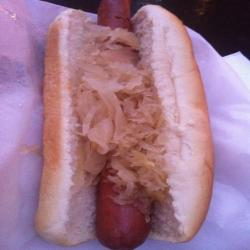hotdog: (31, 1, 219, 249)
